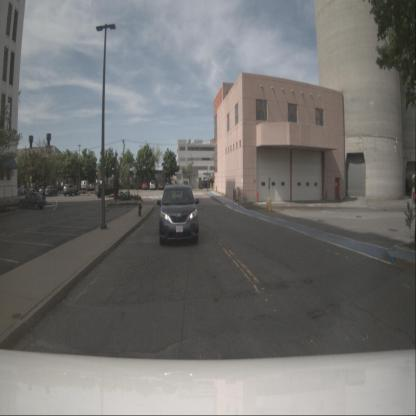vehicle-car: (158, 184, 200, 244), (18, 192, 46, 210), (94, 183, 116, 198), (63, 184, 78, 196), (45, 185, 58, 196), (38, 186, 50, 196), (81, 180, 91, 191), (150, 180, 157, 190), (90, 182, 96, 191), (158, 182, 164, 190), (142, 182, 148, 190)
vehicle-motorcycle: (120, 190, 132, 200)
